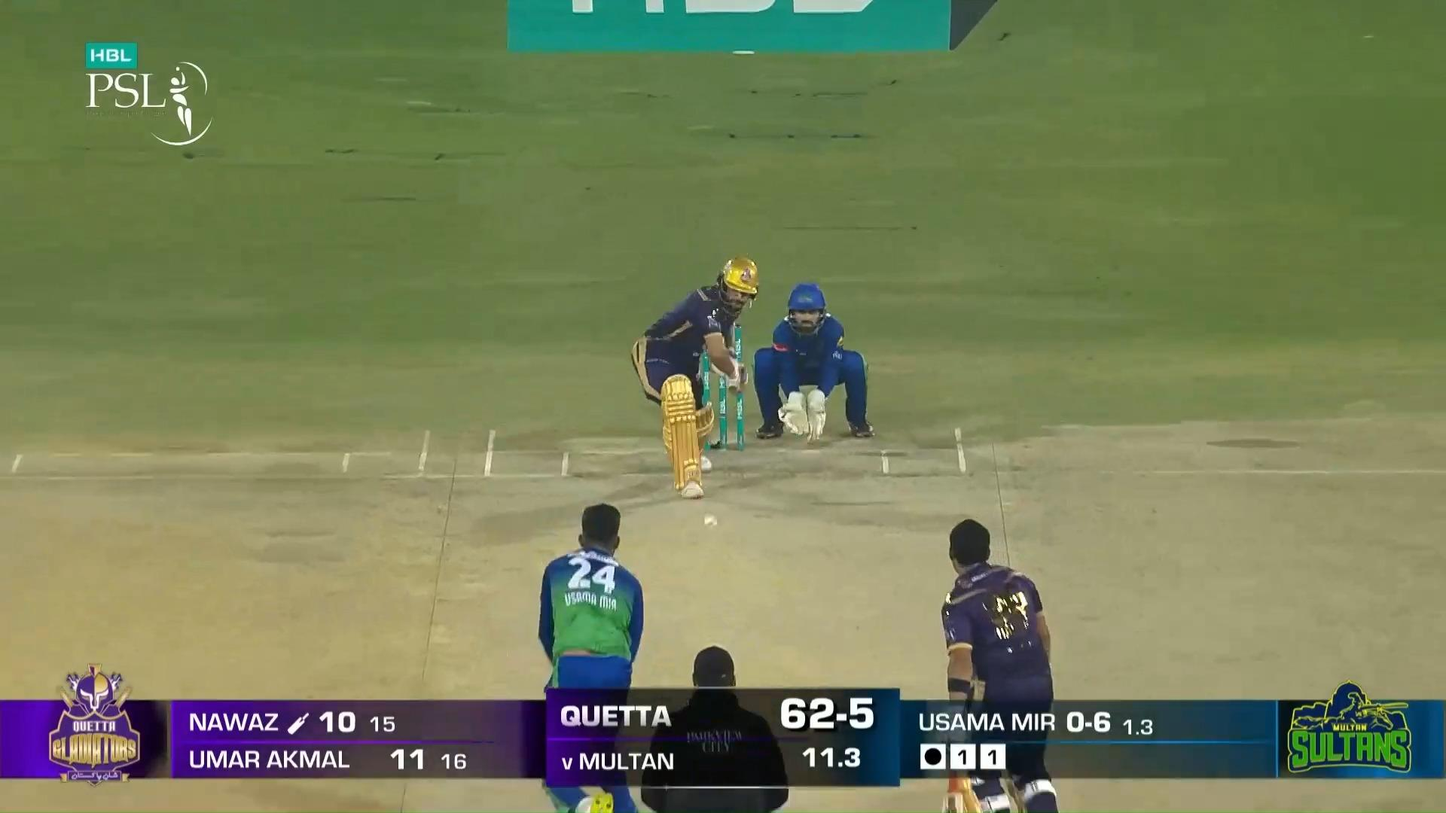batsman: (631, 254, 760, 500)
